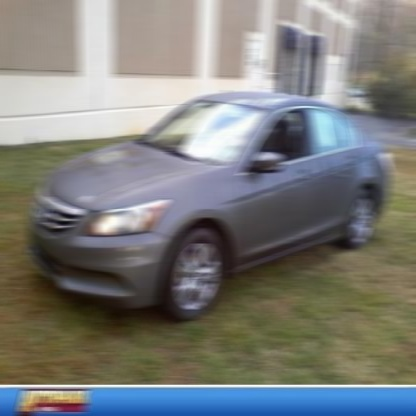Vehicle: (27, 92, 390, 322)
